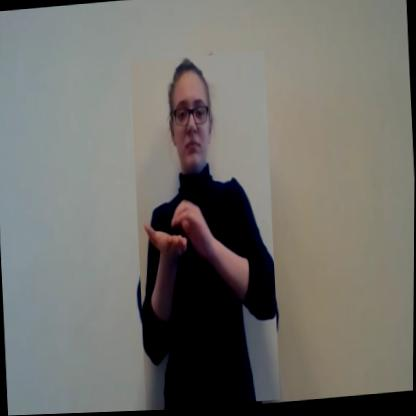ExcuseMe: (128, 51, 283, 412)
